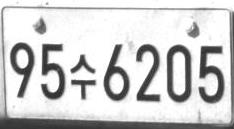0: (166, 43, 192, 104)
2: (135, 43, 160, 102)
5: (198, 45, 225, 104), (40, 43, 65, 100)
6: (103, 43, 130, 102)
9: (9, 42, 35, 98)
수: (69, 53, 97, 100)
